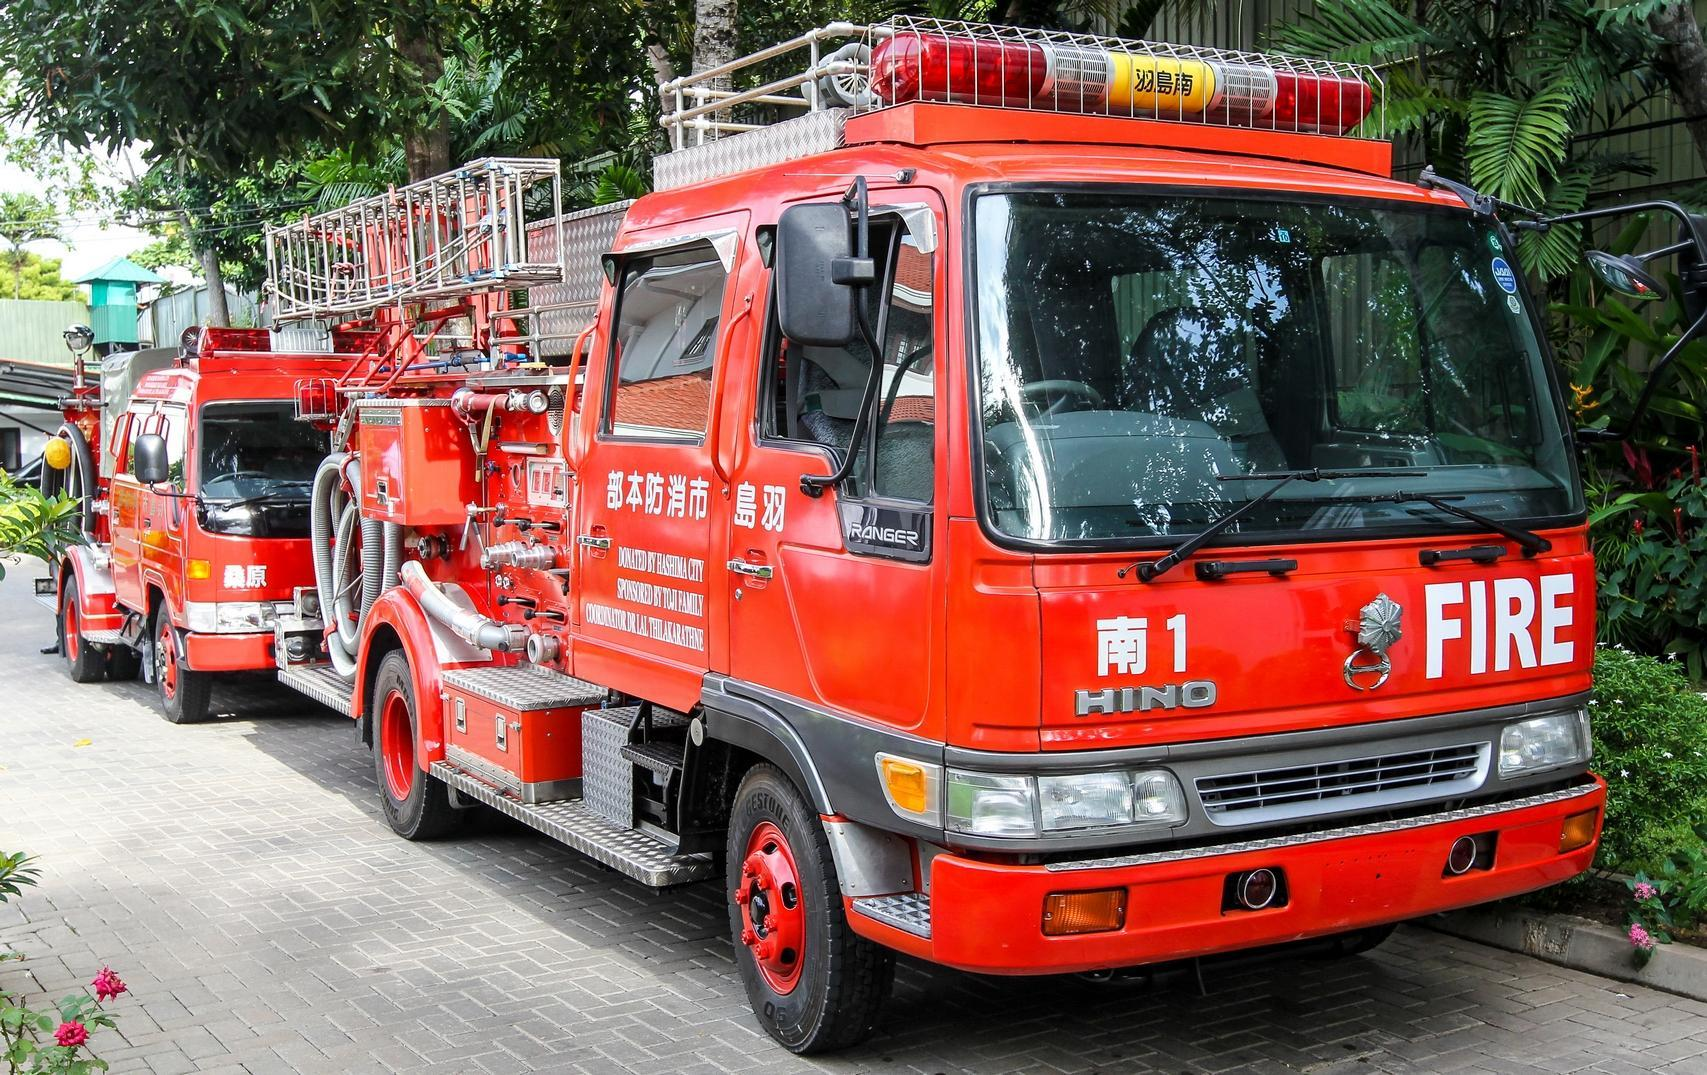truck: (272, 19, 1604, 1056), (52, 326, 382, 725)
